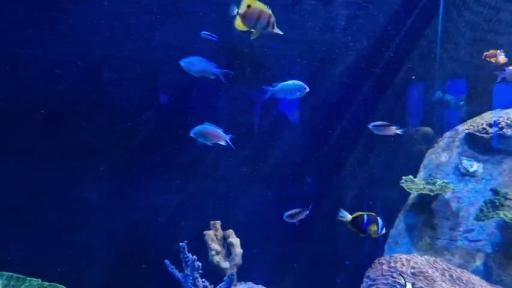Fish: (231, 0, 282, 39), (264, 80, 309, 124), (179, 56, 233, 83), (338, 209, 385, 237), (190, 123, 234, 148), (263, 80, 309, 98), (284, 205, 311, 224), (368, 122, 405, 135), (482, 50, 508, 64), (495, 67, 511, 82), (399, 273, 413, 287), (200, 32, 218, 40)
